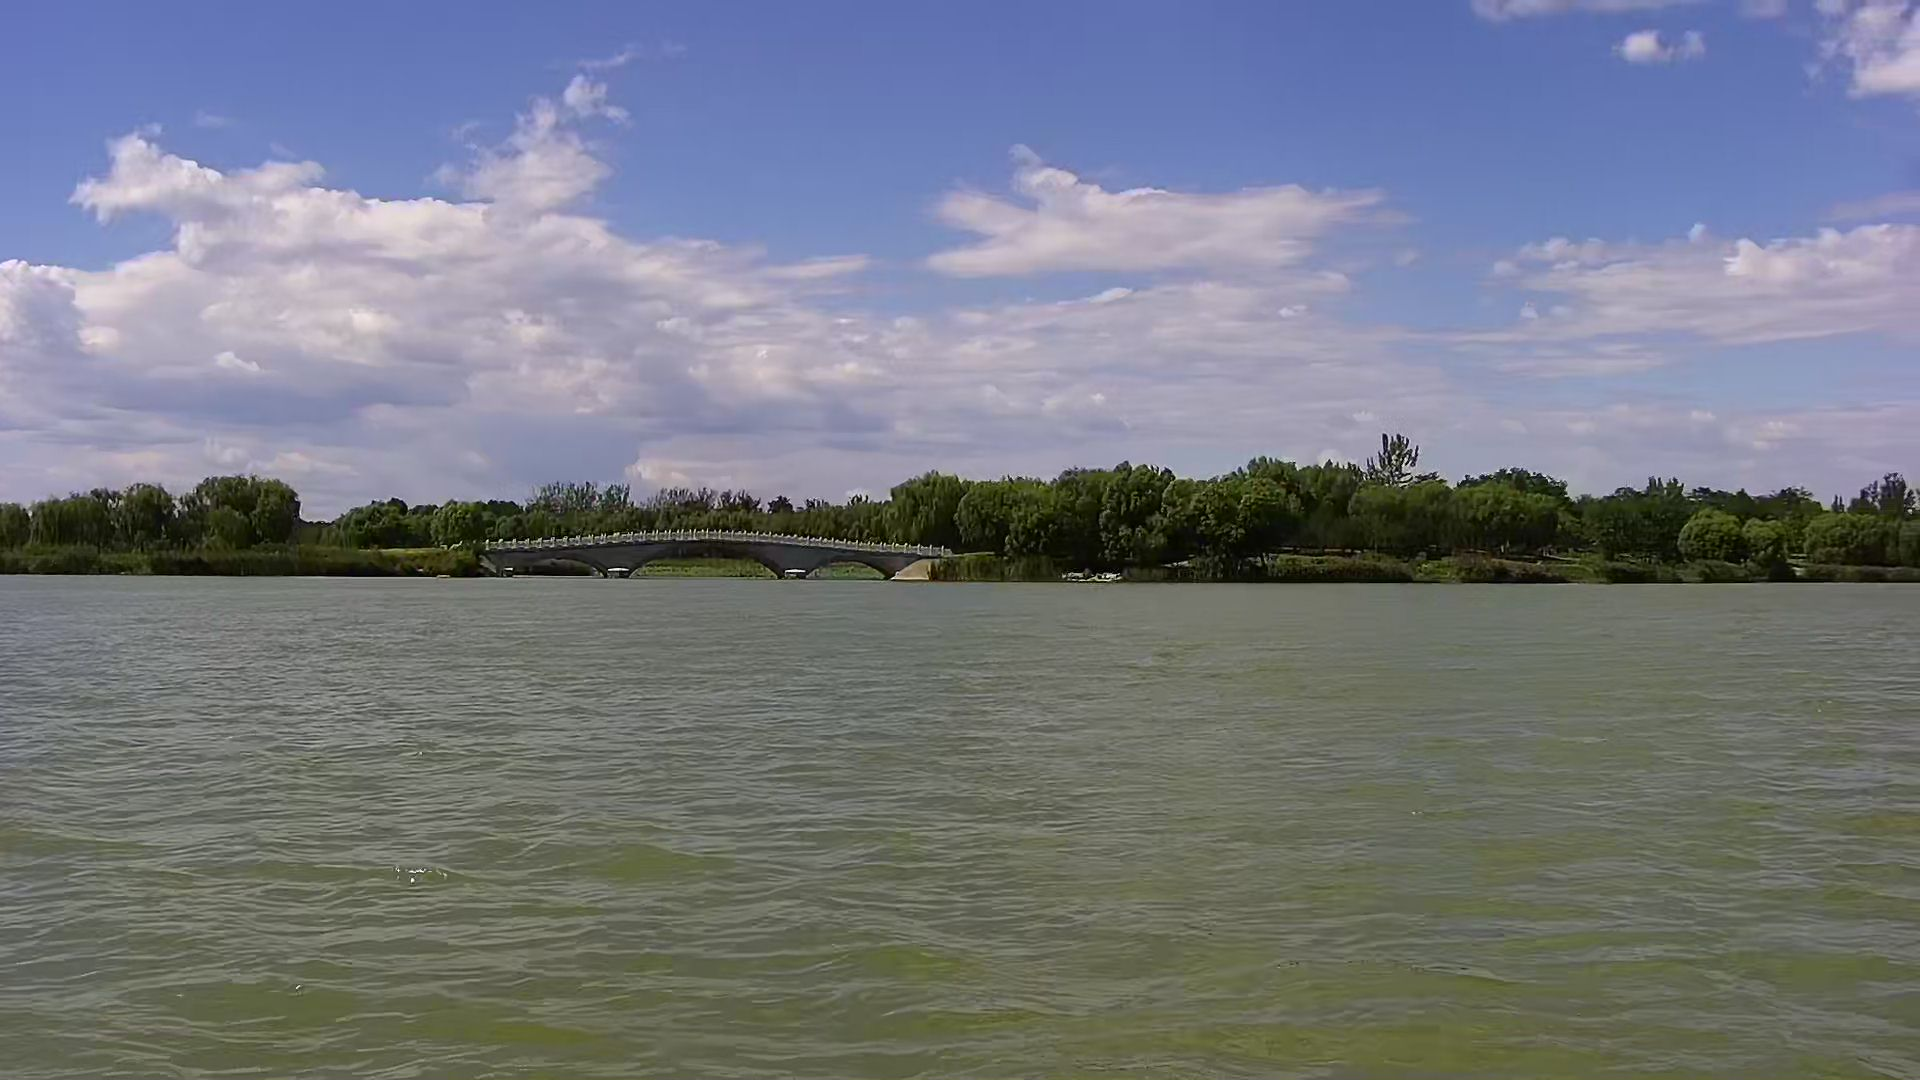bridge: (477, 521, 942, 582)
